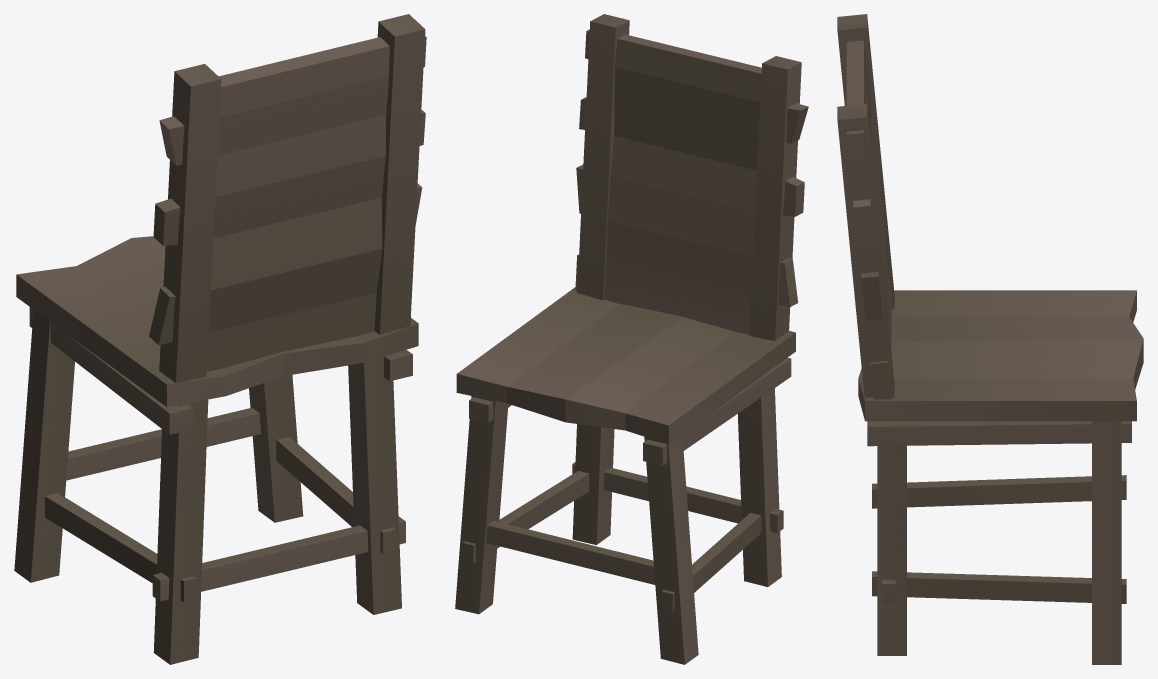
The model's file is Chair_2.fbx.
3 renders of one model, left to right at view 1: azimuth 30°, elevation 25°; view 2: azimuth 150°, elevation 25°; view 3: azimuth 270°, elevation 25°, orthographic. The views are drawn at different scales.
Visible parts, largest first — view 1: pCube788; view 2: pCube788; view 3: pCube788.
Part boxes in pixels (left/top/right/bottom): pCube788: left=14, top=14, right=426, bottom=664; pCube788: left=455, top=14, right=808, bottom=664; pCube788: left=837, top=14, right=1143, bottom=664.
Bounding box in the file's own units: 66.99 × 141 × 72.3.
